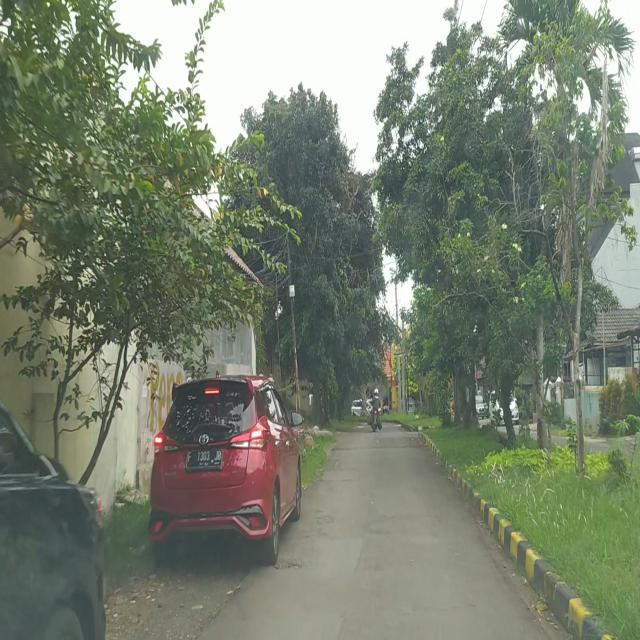Drain Hole: (273, 543, 320, 570)
